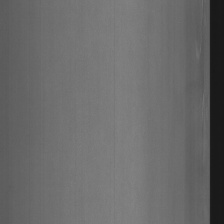silk_spot: (196, 2, 208, 145)
